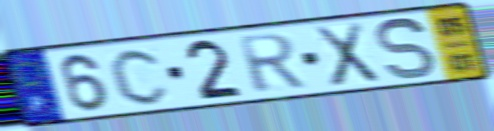2: (183, 37, 245, 102)
6: (57, 50, 111, 114)
C: (108, 46, 173, 107)
R: (234, 31, 309, 96)
S: (374, 15, 439, 82)
X: (310, 20, 383, 90)
